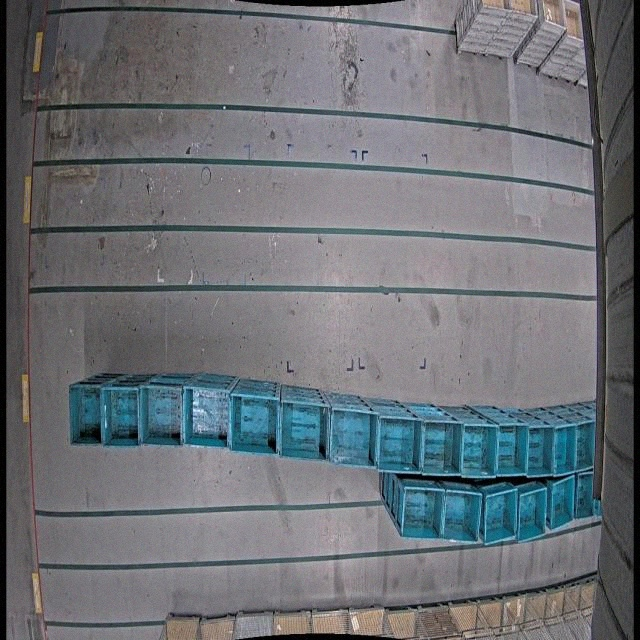Box: (326, 403, 378, 468), (229, 389, 279, 454), (278, 396, 327, 461), (396, 478, 444, 542), (375, 409, 421, 473), (139, 380, 184, 445), (186, 385, 230, 446), (420, 416, 459, 478), (459, 419, 499, 479), (104, 384, 142, 446), (69, 382, 105, 445), (484, 489, 518, 550), (515, 482, 550, 541), (445, 490, 481, 545), (497, 423, 527, 477), (570, 470, 600, 524), (526, 421, 554, 477), (552, 475, 574, 532), (574, 420, 596, 474), (554, 425, 576, 475), (563, 0, 584, 42), (542, 0, 567, 30), (510, 0, 538, 17)
